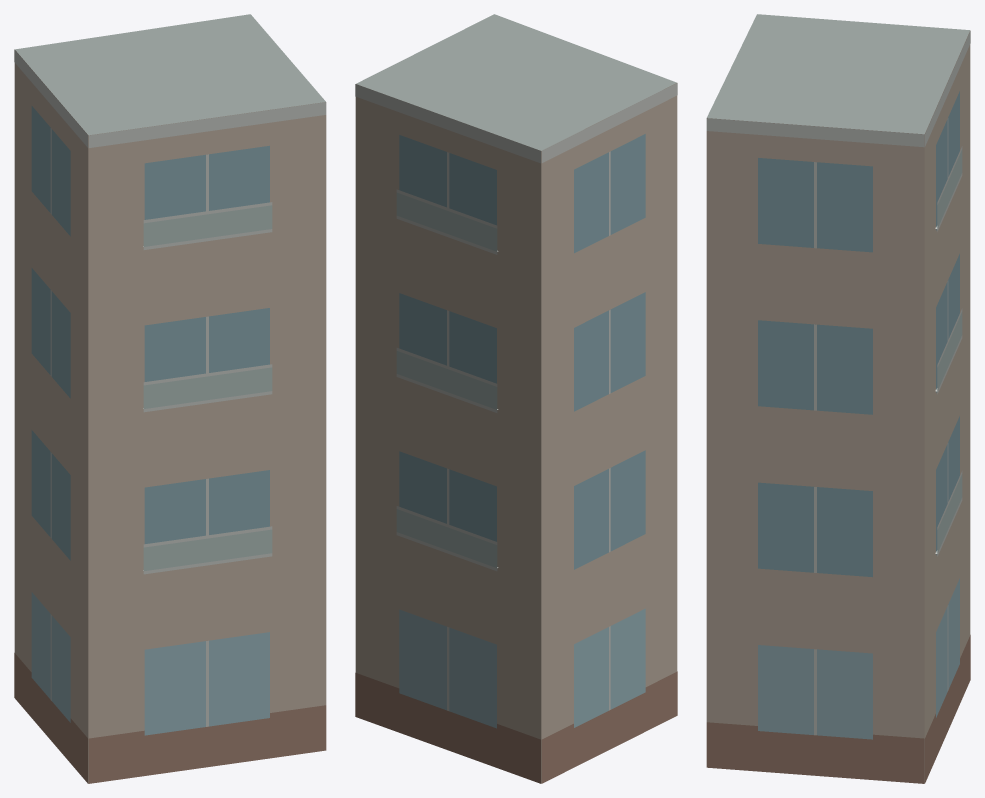
The model's file is survey-upis-32804094.glb.
3 views of the same model, side by side, from view 1: azimuth 30°, elevation 25°; view 2: azimuth 150°, elevation 25°; view 3: azimuth 270°, elevation 25° (orthographic). The views are drawn at different scales.
Parts seen in each view (by area): view 1: survey-upis-32804094.tmp; view 2: survey-upis-32804094.tmp; view 3: survey-upis-32804094.tmp.
Part boxes in pixels (x1=…): survey-upis-32804094.tmp: x1=14, y1=14, x2=326, y2=783; survey-upis-32804094.tmp: x1=355, y1=14, x2=677, y2=783; survey-upis-32804094.tmp: x1=706, y1=14, x2=970, y2=783.
Bounding box in the file's own units: 4.85 × 12.2 × 4.5.
